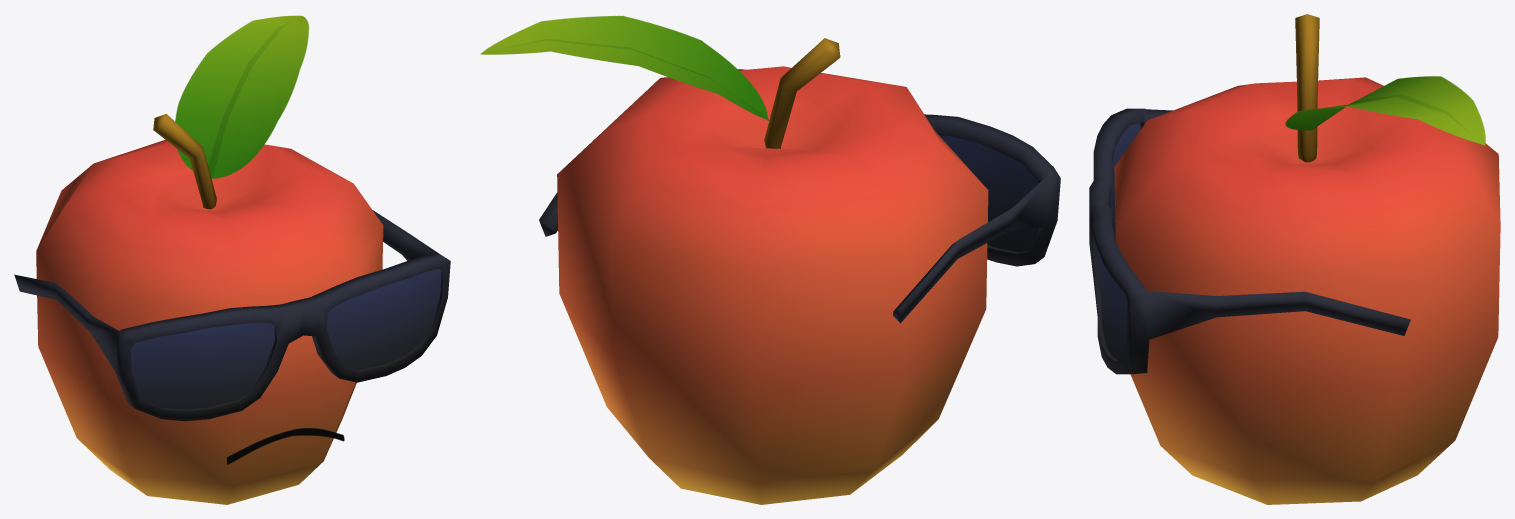
File: apple.glb
The picture shows the model from 3 angles, left to right: view 1: azimuth 30°, elevation 25°; view 2: azimuth 150°, elevation 25°; view 3: azimuth 270°, elevation 25°; orthographic projection. The views are drawn at different scales.
Parts seen in each view (by area): view 1: Apple, Sunglasses, Mouth; view 2: Apple, Sunglasses; view 3: Apple, Sunglasses.
Boxes of the visible parts, bbox=[...] form: Apple: bbox=[36, 15, 383, 504]; Sunglasses: bbox=[14, 210, 450, 421]; Mouth: bbox=[226, 428, 344, 464]; Apple: bbox=[480, 16, 988, 504]; Sunglasses: bbox=[539, 69, 1060, 323]; Apple: bbox=[1114, 14, 1500, 504]; Sunglasses: bbox=[1089, 108, 1410, 374].
Size of the model in its own units: 0.5686 by 0.6005 by 0.5157.
1 material, 1 textured.
